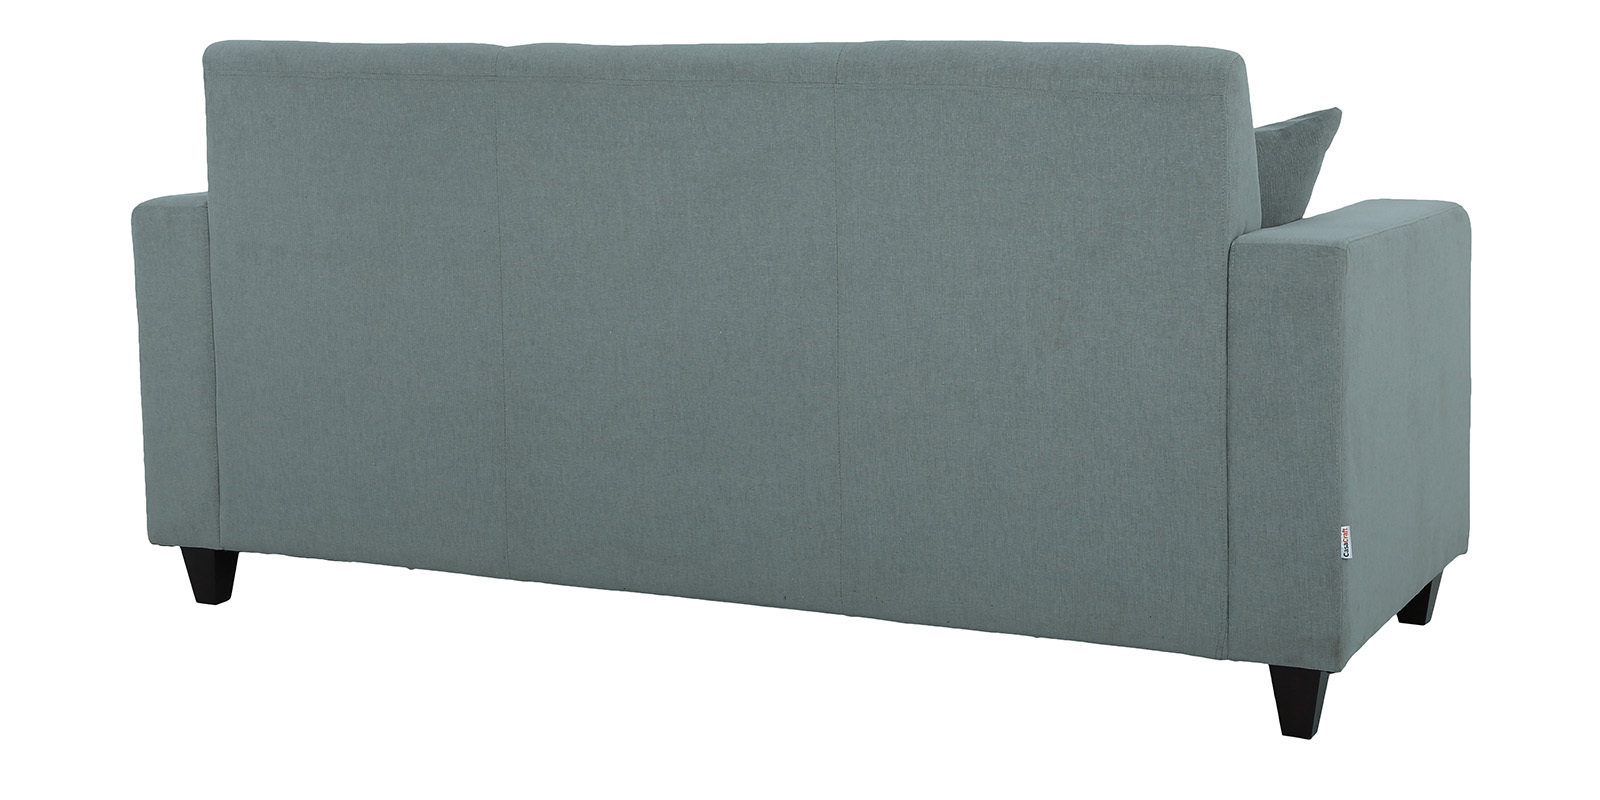Alba Three Seater Sofa in Ash Grey Colour by CasaCraft: (126, 37, 1476, 742)
